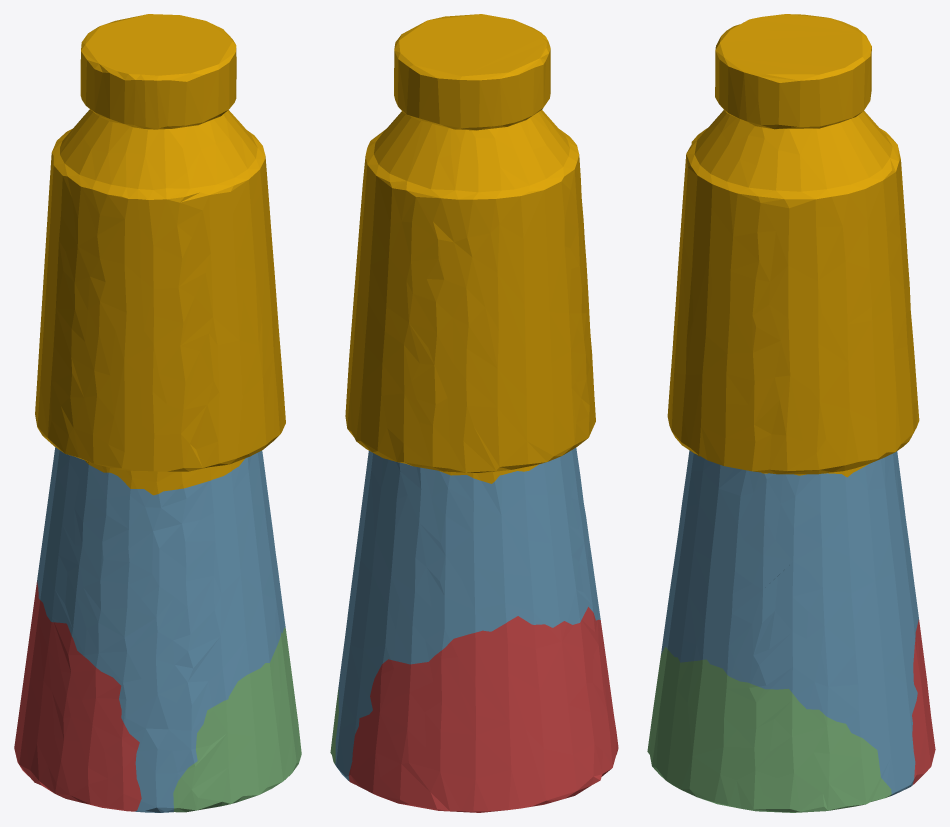
Rendered from mode_4_4pcs.glb.
3 views of the same model, side by side, from view 1: azimuth 30°, elevation 25°; view 2: azimuth 150°, elevation 25°; view 3: azimuth 270°, elevation 25° (orthographic).
Parts seen in each view (by area): view 1: piece_0.obj, piece_2.obj, piece_1.obj, piece_3.obj; view 2: piece_0.obj, piece_2.obj, piece_1.obj; view 3: piece_0.obj, piece_2.obj, piece_3.obj, piece_1.obj.
Part boxes in pixels (x1,y1,x2,y2): piece_0.obj: (35, 14, 285, 495); piece_2.obj: (37, 447, 285, 812); piece_1.obj: (14, 581, 141, 811); piece_3.obj: (173, 627, 301, 812); piece_0.obj: (345, 14, 595, 483); piece_2.obj: (335, 447, 600, 781); piece_1.obj: (348, 607, 618, 812); piece_0.obj: (667, 14, 919, 477); piece_2.obj: (661, 450, 918, 796); piece_3.obj: (647, 647, 891, 812); piece_1.obj: (912, 619, 935, 785).
Size of the model in its own units: 0.3678 by 1 by 0.3677.
